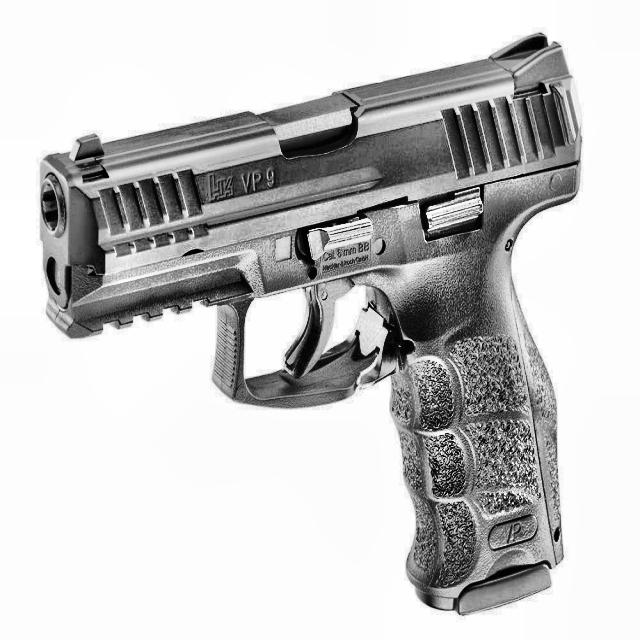HKVP9: (38, 30, 584, 615)
